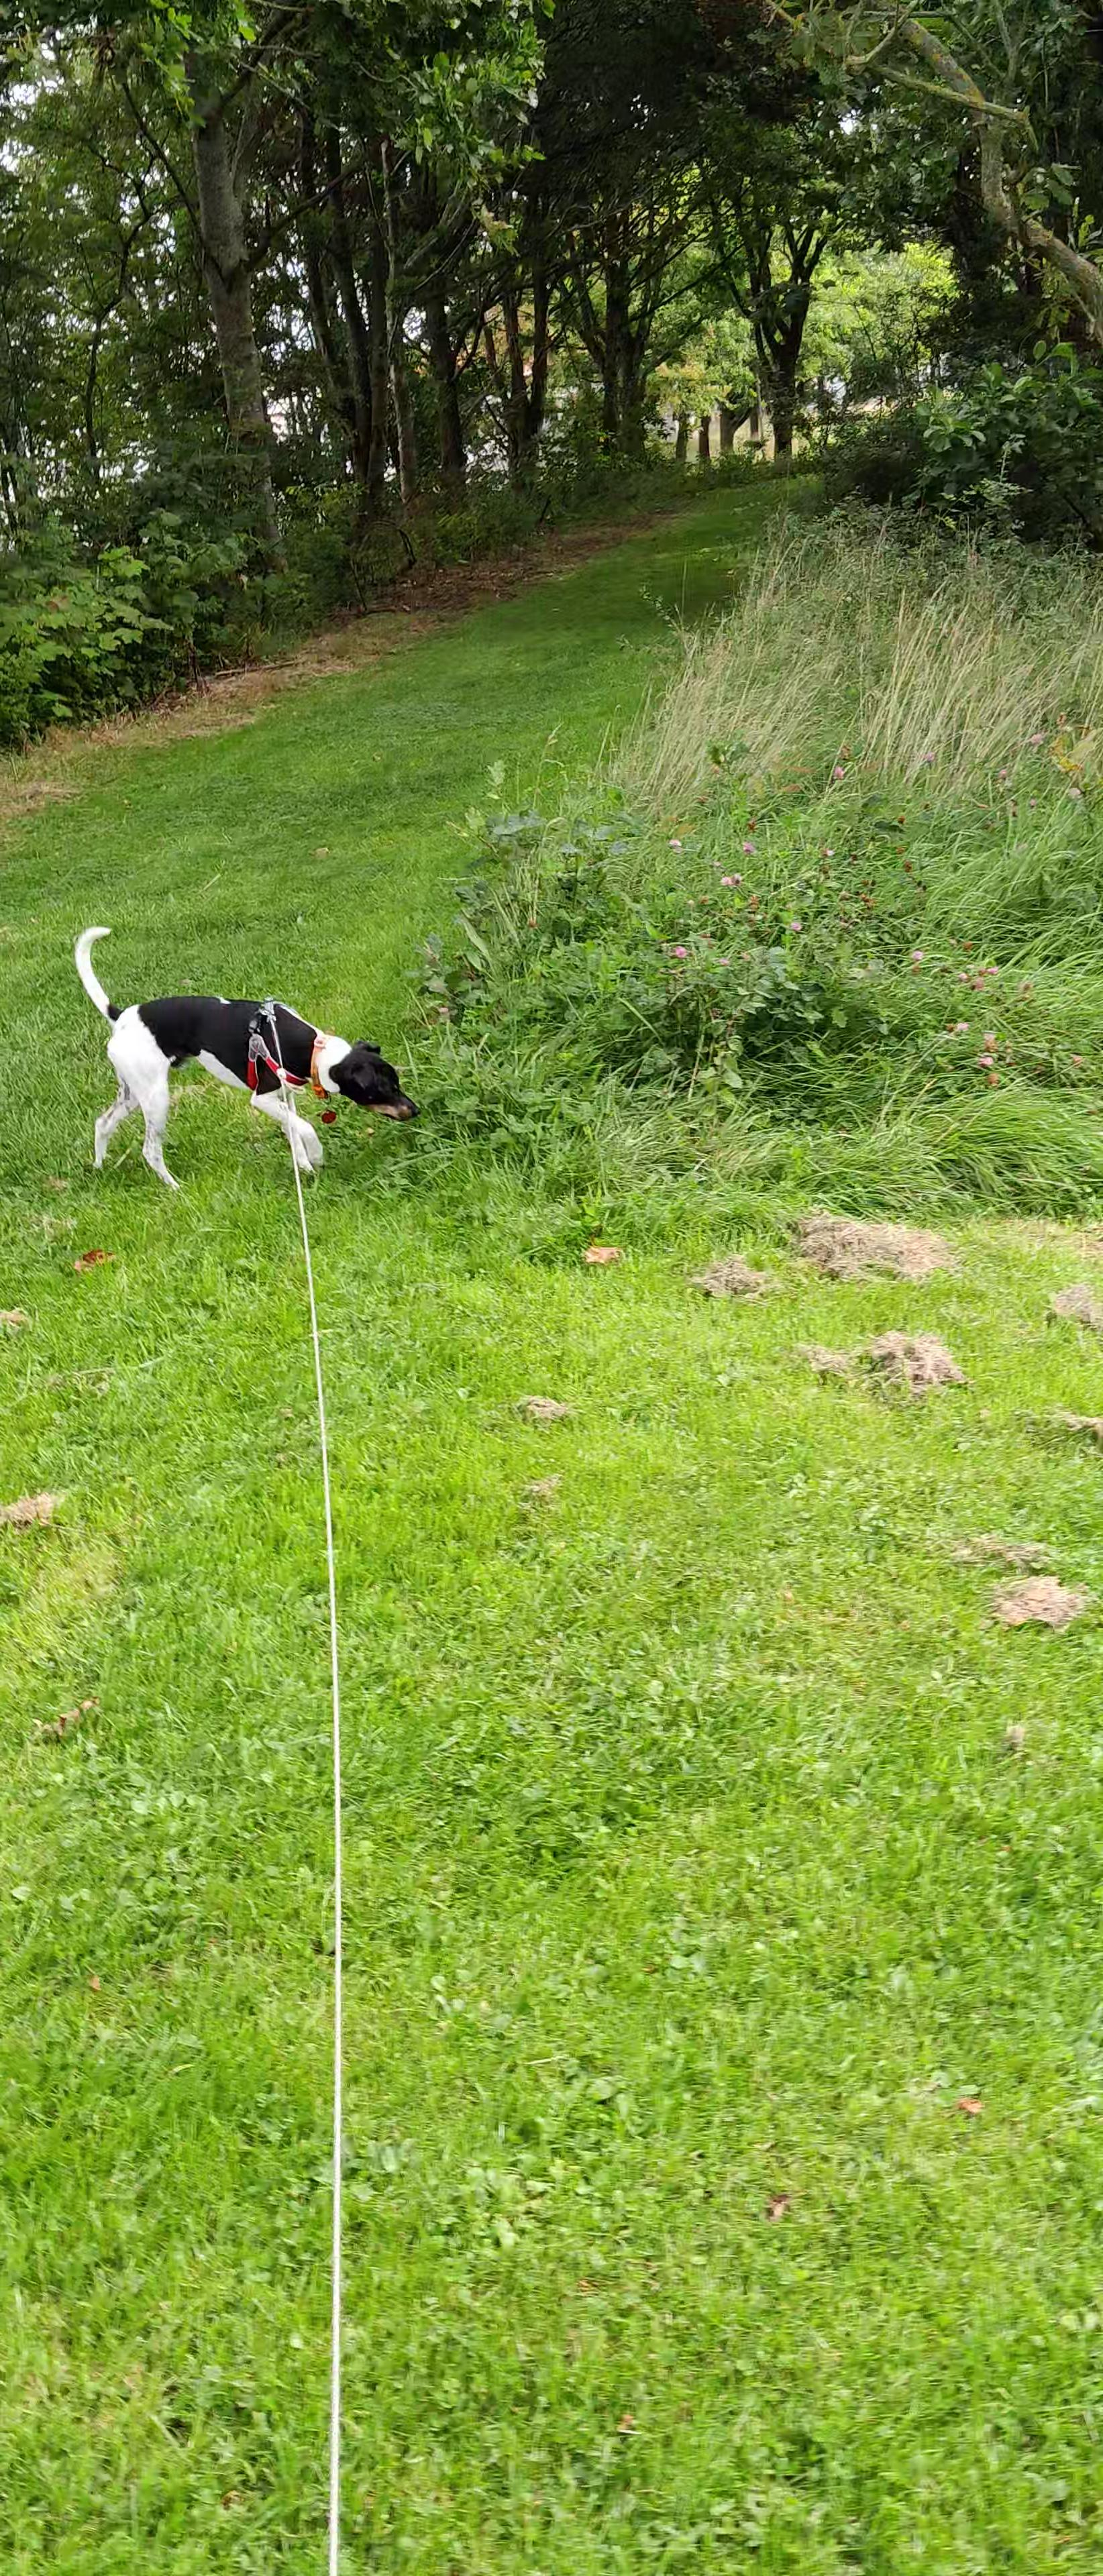Dog: (67, 918, 424, 1188)
